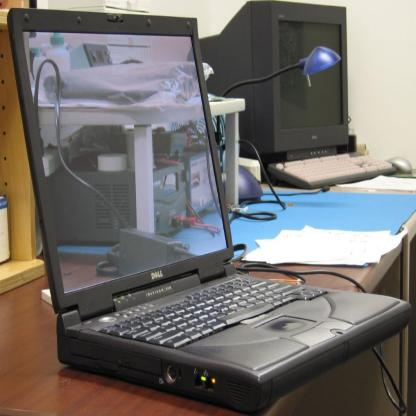board: (6, 8, 413, 416)
